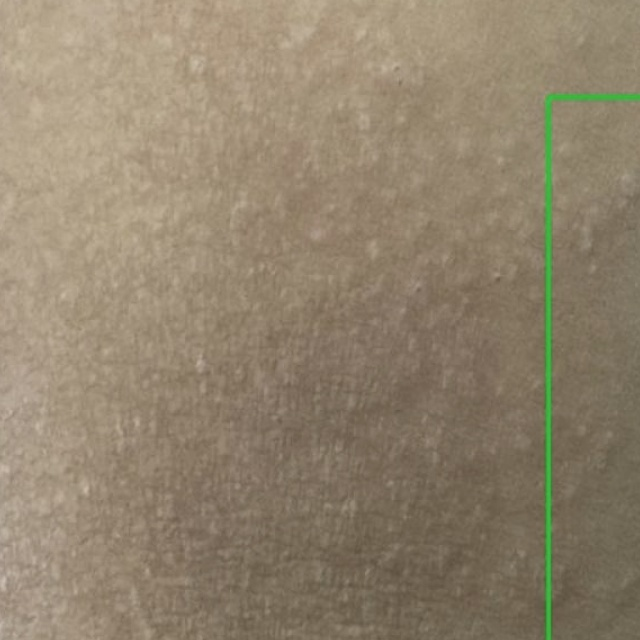Contact Dermatitis: (547, 96, 639, 639)
